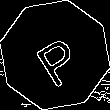P_NW: (26, 24, 84, 86)
